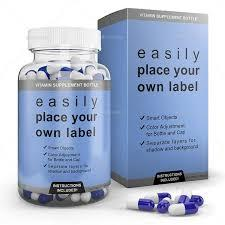jar: (18, 29, 110, 205)
